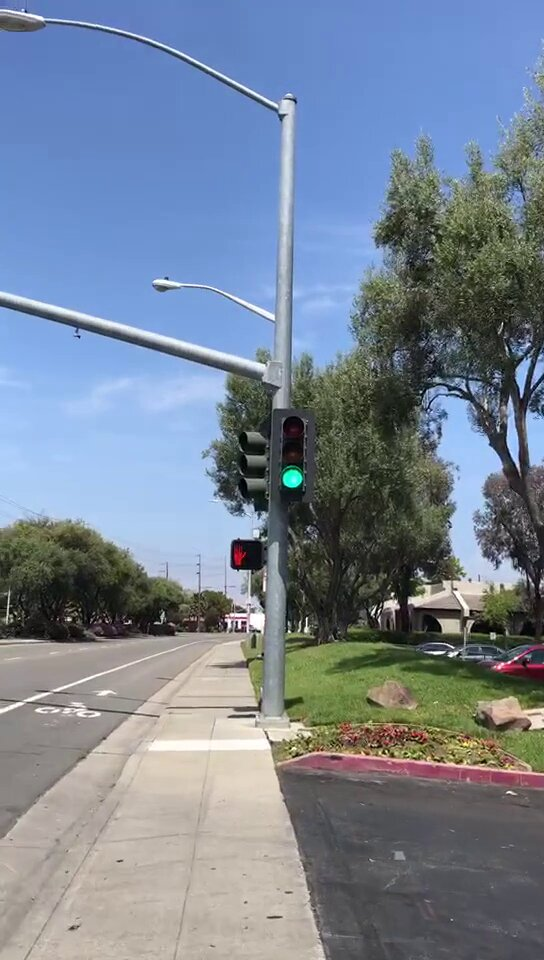green_light: (274, 412, 313, 501)
